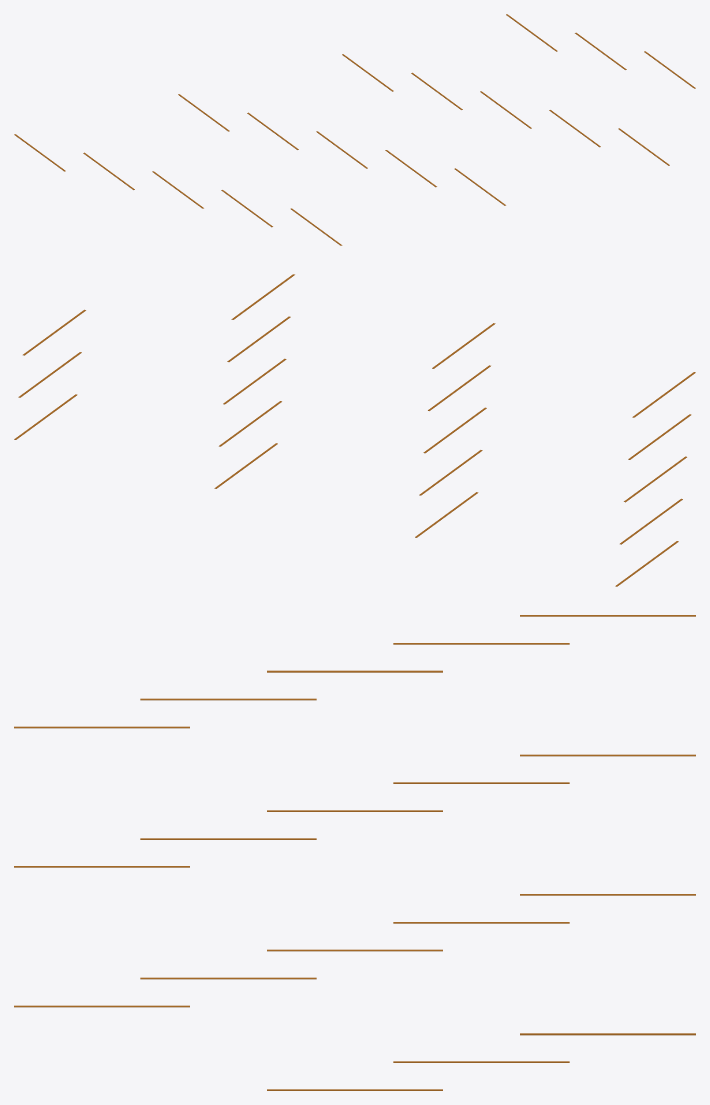
File: 083_L101_L6_Bottom_Signal.fbx
3 renders of one model, top to bottom at view 1: azimuth 30°, elevation 25°; view 2: azimuth 150°, elevation 25°; view 3: azimuth 270°, elevation 25°, orthographic. The views are drawn at different scales.
Size of the model in its own units: 20.46 by 0.007 by 12.4.
